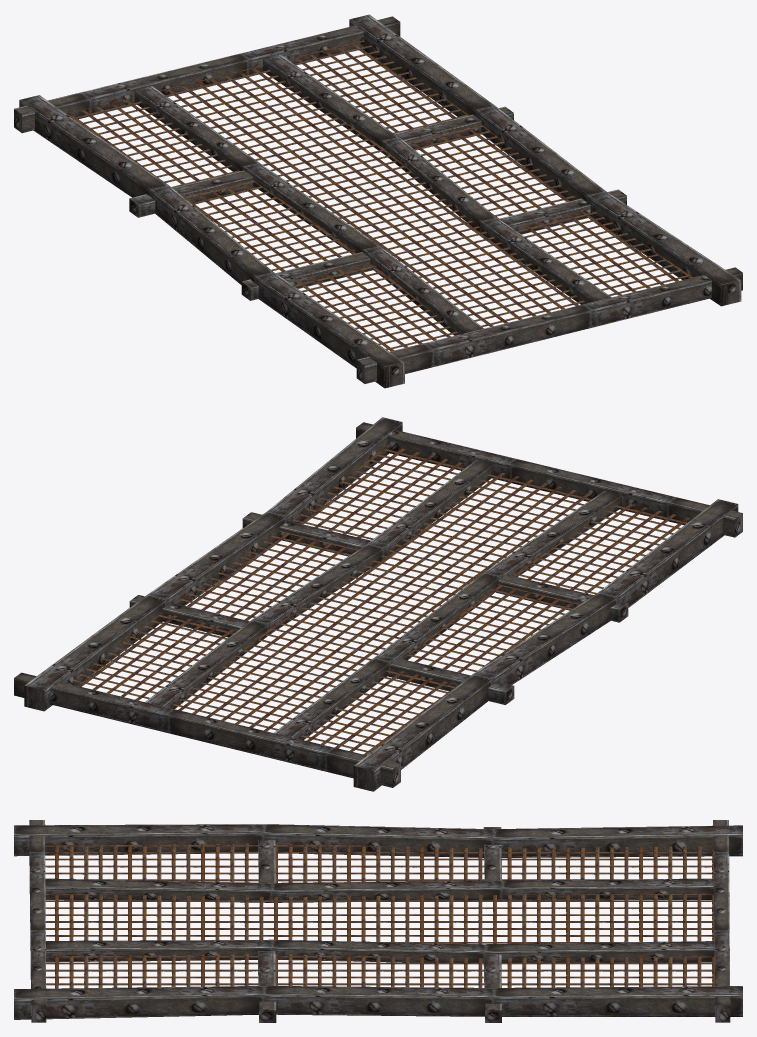
The model's file is environment_Building_yingdi_hantianta_002_j.FBX.
3 renders of one model, top to bottom at view 1: azimuth 30°, elevation 25°; view 2: azimuth 150°, elevation 25°; view 3: azimuth 270°, elevation 25°, orthographic.
Visible parts, largest first — view 1: environment_Building_yingdi_hantianta_002_j02, environment_Building_yingdi_hantianta_002_j01; view 2: environment_Building_yingdi_hantianta_002_j02, environment_Building_yingdi_hantianta_002_j01; view 3: environment_Building_yingdi_hantianta_002_j02, environment_Building_yingdi_hantianta_002_j01.
Part boxes in pixels (<box>): environment_Building_yingdi_hantianta_002_j02: <box>14,14,742,388</box>; environment_Building_yingdi_hantianta_002_j01: <box>66,40,692,351</box>; environment_Building_yingdi_hantianta_002_j02: <box>14,417,742,791</box>; environment_Building_yingdi_hantianta_002_j01: <box>72,445,689,755</box>; environment_Building_yingdi_hantianta_002_j02: <box>14,820,742,1022</box>; environment_Building_yingdi_hantianta_002_j01: <box>45,843,714,988</box>.
Size of the model in its own units: 2079 by 3469 by 110.
